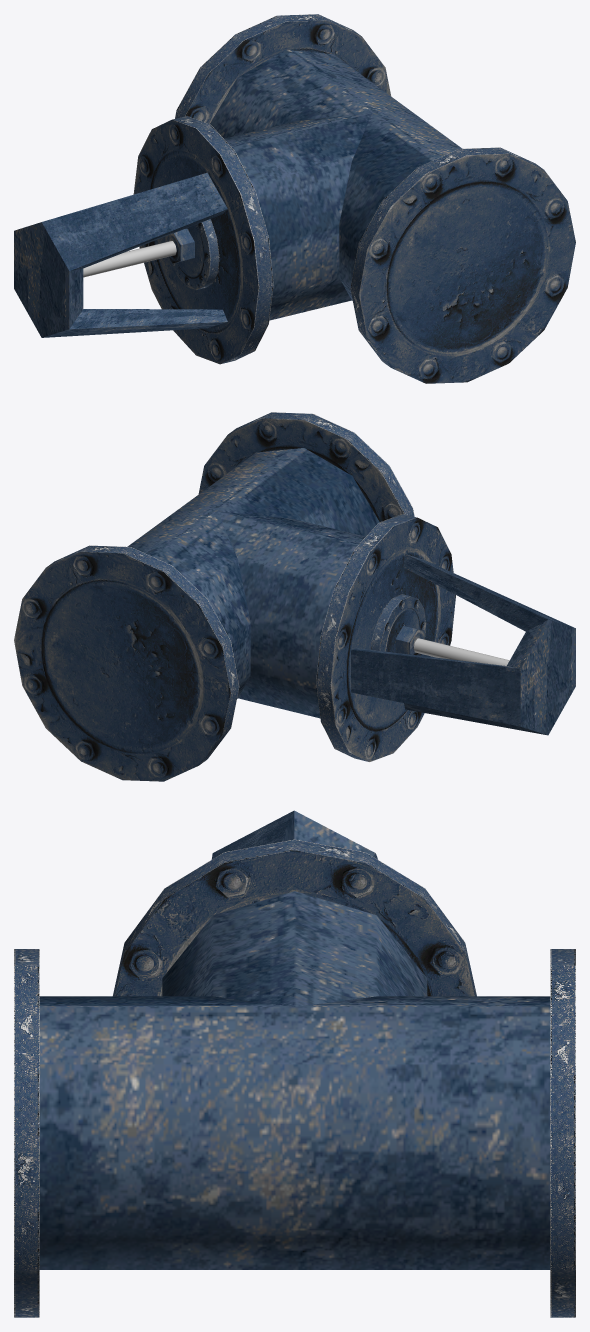
File: valve_blue.DAE
3 views of the same model, one above another, from view 1: azimuth 30°, elevation 25°; view 2: azimuth 150°, elevation 25°; view 3: azimuth 270°, elevation 25° (orthographic). The views are drawn at different scales.
Parts seen in each view (by area): view 1: Box342, Box341, Box347; view 2: Box342, Box341, Box347; view 3: Box341, Box342.
Boxes of the visible parts, x1,y1,x2,y2 form: Box342: [133, 14, 575, 383]; Box341: [14, 49, 462, 337]; Box347: [83, 241, 176, 277]; Box342: [14, 412, 455, 781]; Box341: [127, 448, 575, 735]; Box347: [413, 638, 509, 665]; Box341: [39, 810, 550, 1269]; Box342: [14, 839, 575, 1317].
Bounding box in the file's own units: 1.33 × 1 × 0.6566.
